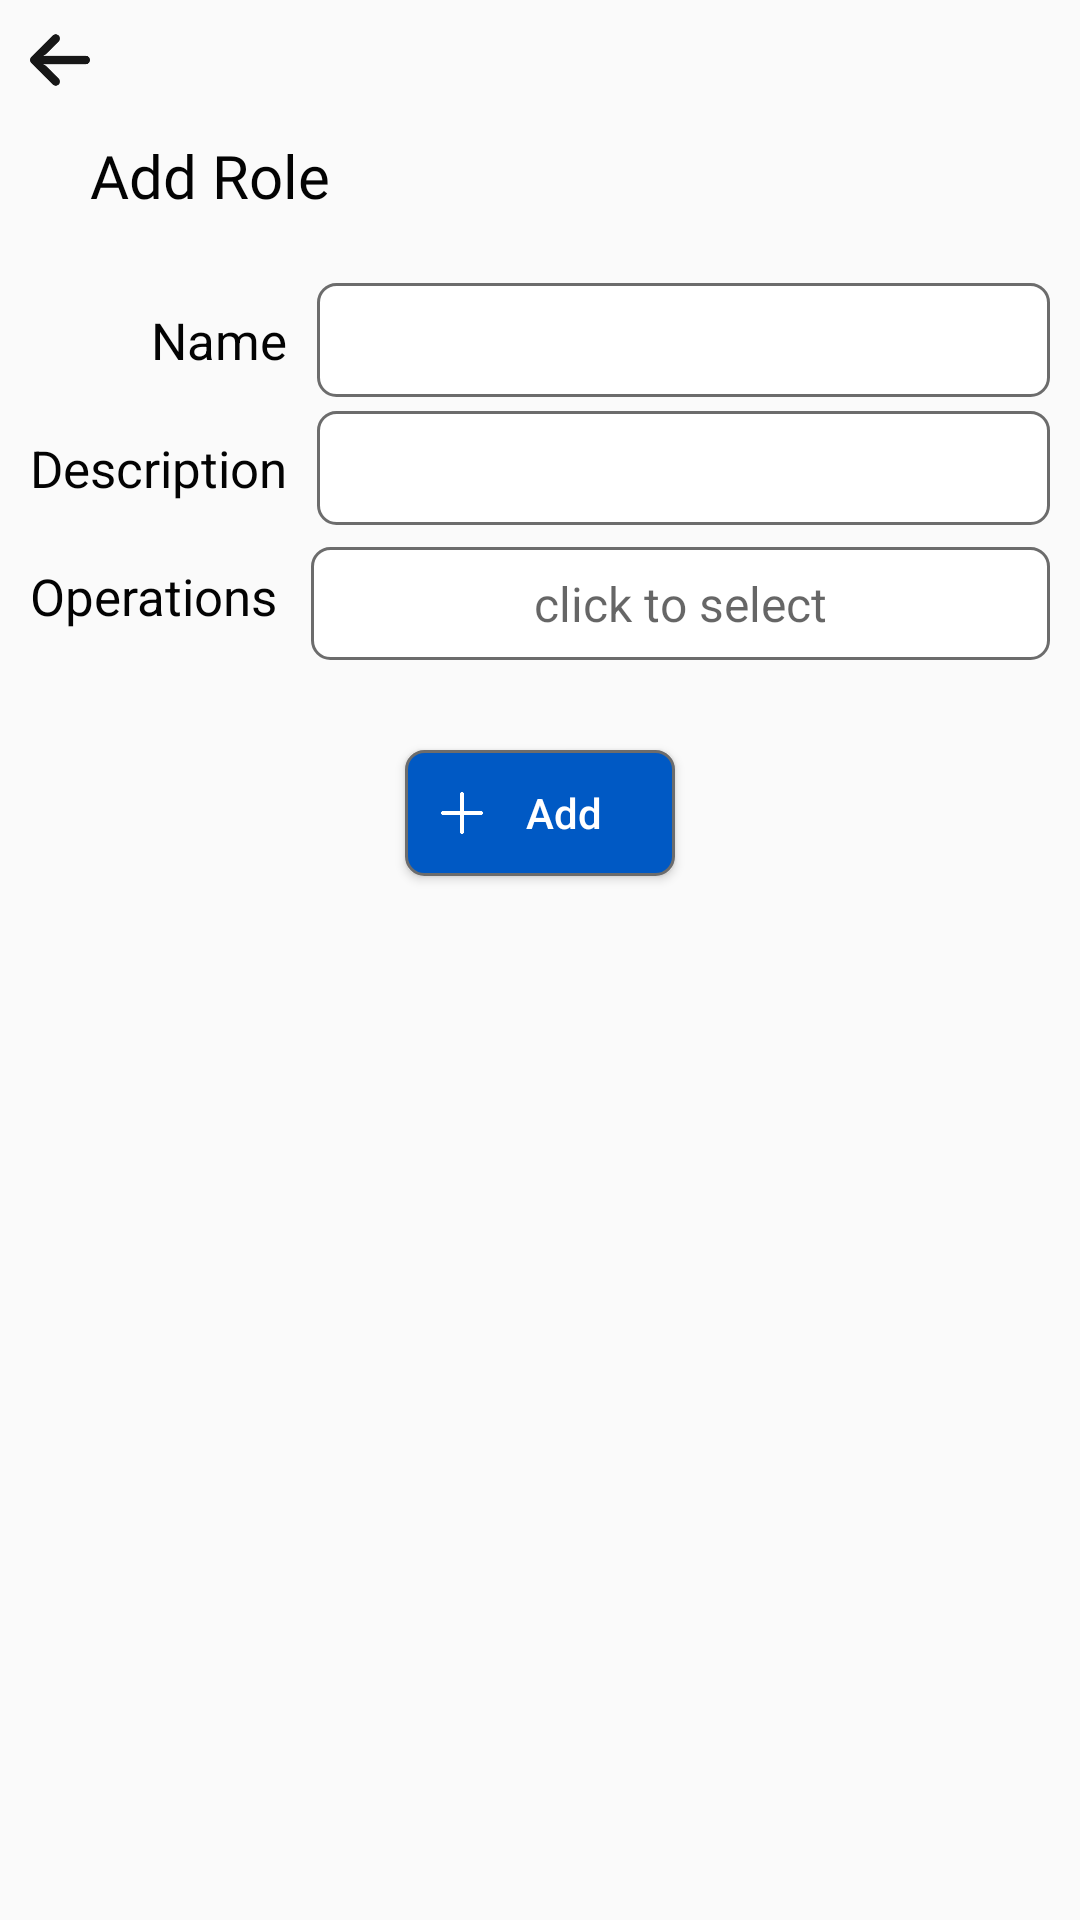

Named icons in this screenshot (1080px×1920px) and their bounding boxes, (x1, y1, x2, y2):
back arrow: (30, 34, 90, 86)
